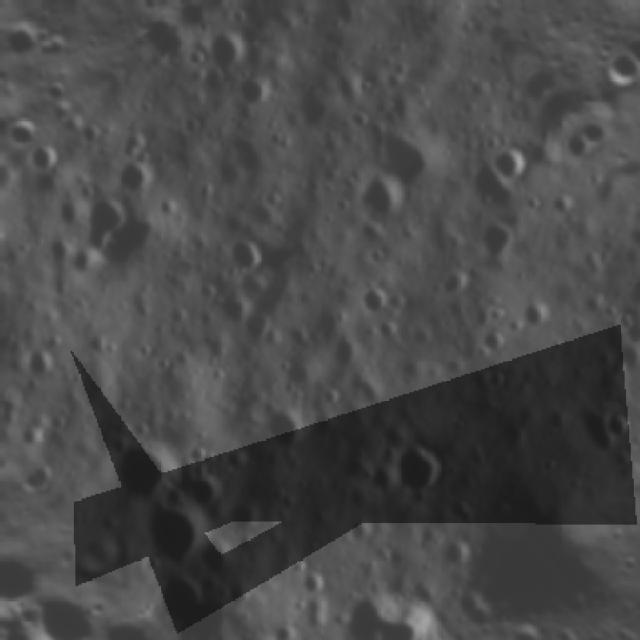crater: (312, 538, 458, 640), (72, 412, 192, 530), (106, 477, 226, 595), (46, 169, 152, 274), (357, 103, 457, 205), (374, 422, 466, 512), (242, 377, 332, 465), (133, 552, 218, 637), (182, 12, 264, 93), (339, 156, 419, 236), (459, 204, 530, 273), (202, 603, 329, 640), (210, 223, 278, 291), (217, 59, 283, 127), (479, 124, 546, 190), (101, 141, 167, 207), (225, 288, 290, 352), (172, 459, 235, 523), (4, 330, 67, 392), (186, 524, 246, 584), (214, 486, 272, 545), (280, 556, 338, 612), (509, 284, 565, 339), (595, 293, 640, 361), (592, 394, 640, 452), (343, 270, 395, 322), (427, 260, 476, 308), (20, 136, 69, 184), (466, 318, 514, 365), (472, 16, 517, 66), (506, 66, 552, 114), (68, 108, 114, 154), (552, 124, 596, 170), (540, 180, 583, 222), (624, 194, 640, 243)
